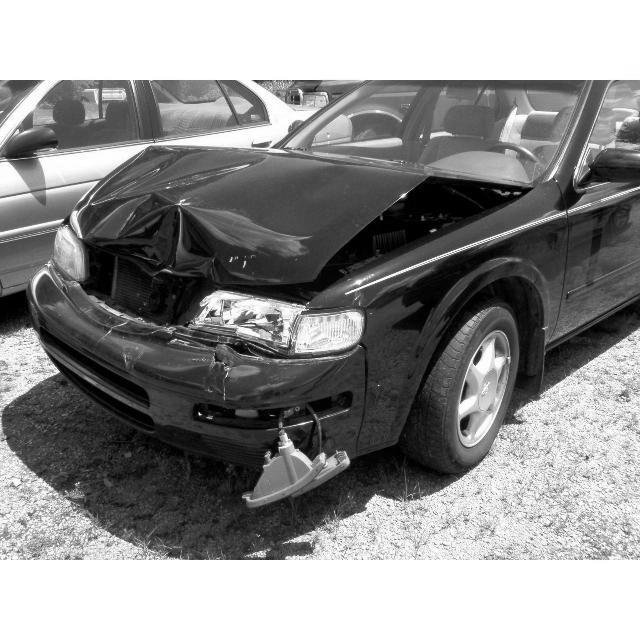Headlight-damage: (172, 289, 368, 386)
bonnet-dent: (84, 126, 431, 257)
front-bumper-dent: (70, 342, 323, 455)
